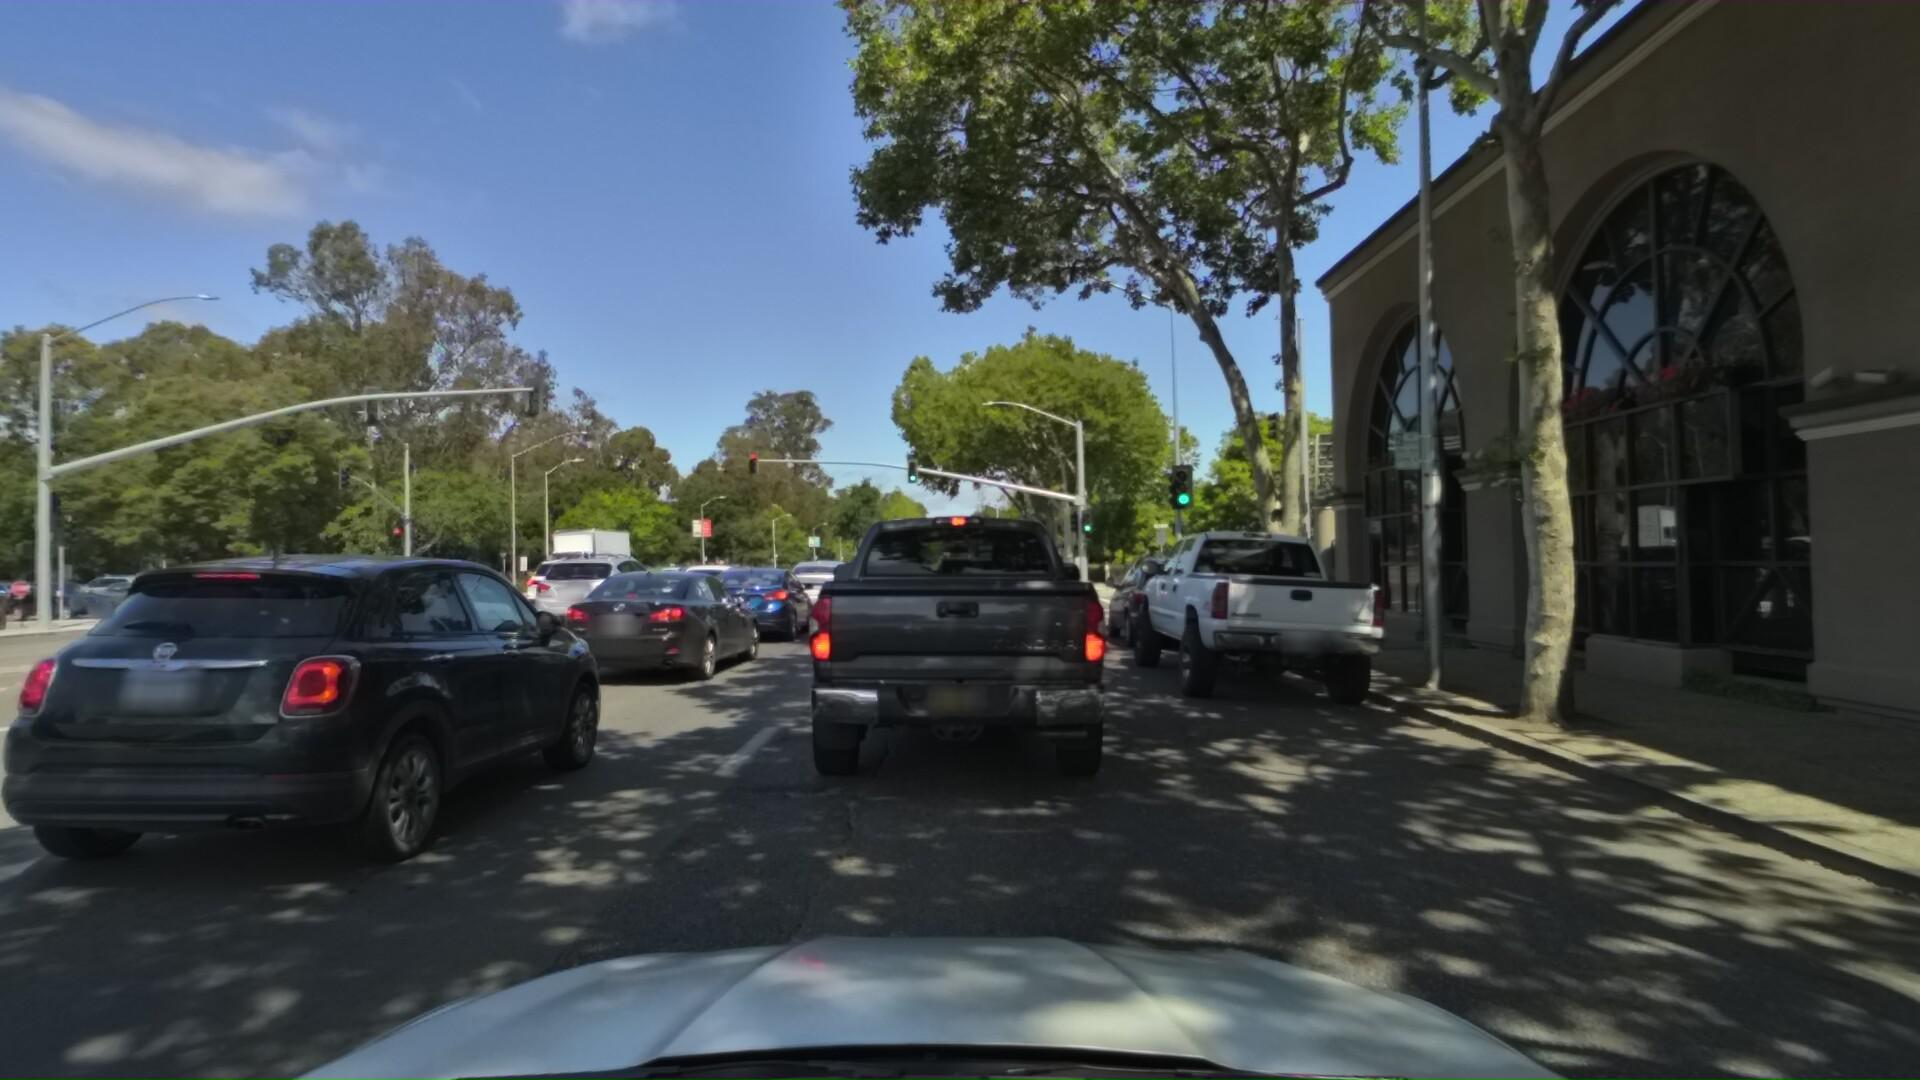car: (0, 517, 640, 934), (785, 436, 1145, 836), (1118, 509, 1408, 713), (543, 556, 771, 696), (377, 562, 597, 673), (945, 535, 1080, 671), (1091, 541, 1247, 651), (531, 531, 666, 625), (684, 556, 819, 650), (521, 541, 645, 607), (781, 553, 866, 622), (8, 568, 127, 616), (82, 566, 215, 605), (675, 553, 752, 607), (0, 566, 84, 609)
truck: (527, 514, 638, 588)
